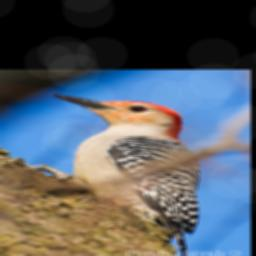Woodpecker: (50, 92, 200, 256)
